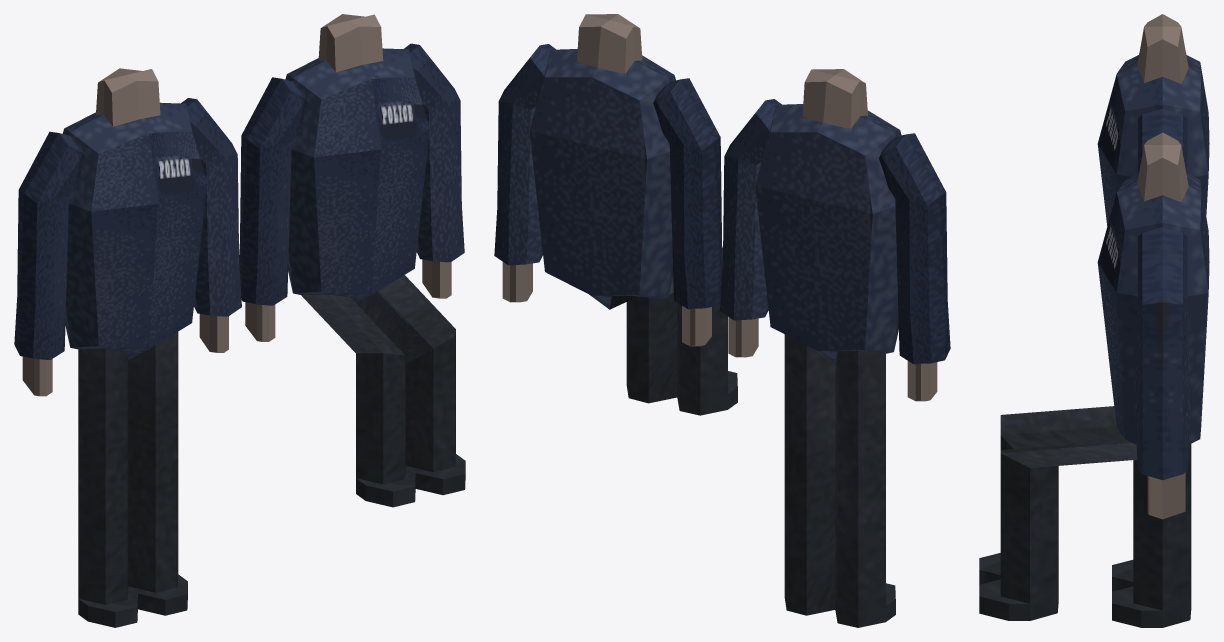
Rendered from policialcorpo.fbx.
3 renders of one model, left to right at view 1: azimuth 30°, elevation 25°; view 2: azimuth 150°, elevation 25°; view 3: azimuth 270°, elevation 25°, orthographic. The views are drawn at different scales.
Parts seen in each view (by area): view 1: corpopolicia, corpopolicia.001; view 2: corpopolicia, corpopolicia.001; view 3: corpopolicia.001, corpopolicia.
Part boxes in pixels (<box>): corpopolicia: <box>14,68,241,627</box>; corpopolicia.001: <box>239,14,465,507</box>; corpopolicia: <box>720,69,950,627</box>; corpopolicia.001: <box>494,14,737,415</box>; corpopolicia.001: <box>979,132,1209,620</box>; corpopolicia: <box>1097,14,1209,627</box>.
Size of the model in its own units: 876 by 1005 by 365.
